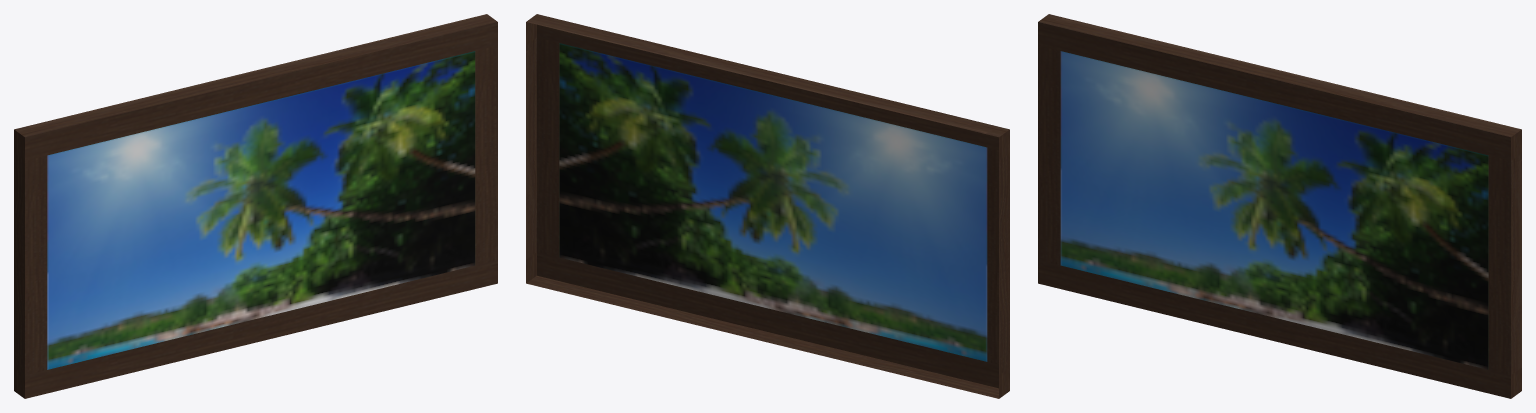
File: Paint_7.fbx
3 renders of one model, left to right at view 1: azimuth 30°, elevation 25°; view 2: azimuth 150°, elevation 25°; view 3: azimuth 330°, elevation 25°, orthographic.
Parts seen in each view (by area): view 1: polySurface906; view 2: polySurface906; view 3: polySurface906.
Boxes of the visible parts, x1,y1,x2,y2 form: polySurface906: (14, 14, 497, 398); polySurface906: (526, 14, 1009, 398); polySurface906: (1038, 14, 1521, 398).
Bounding box in the file's own units: 2.12 × 1.12 × 0.084.
